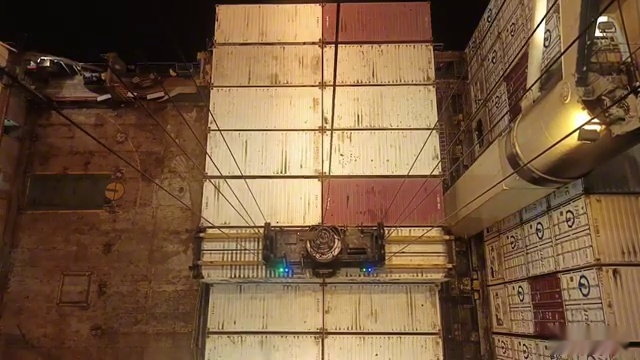container: (198, 219, 449, 276), (205, 127, 445, 178), (205, 281, 441, 332), (202, 176, 447, 222), (209, 78, 435, 125), (207, 332, 446, 360), (202, 333, 444, 360)
guide_mark: (110, 344, 544, 360), (66, 353, 561, 360)
spreader: (189, 217, 465, 276)
target_slot: (191, 222, 472, 283)
